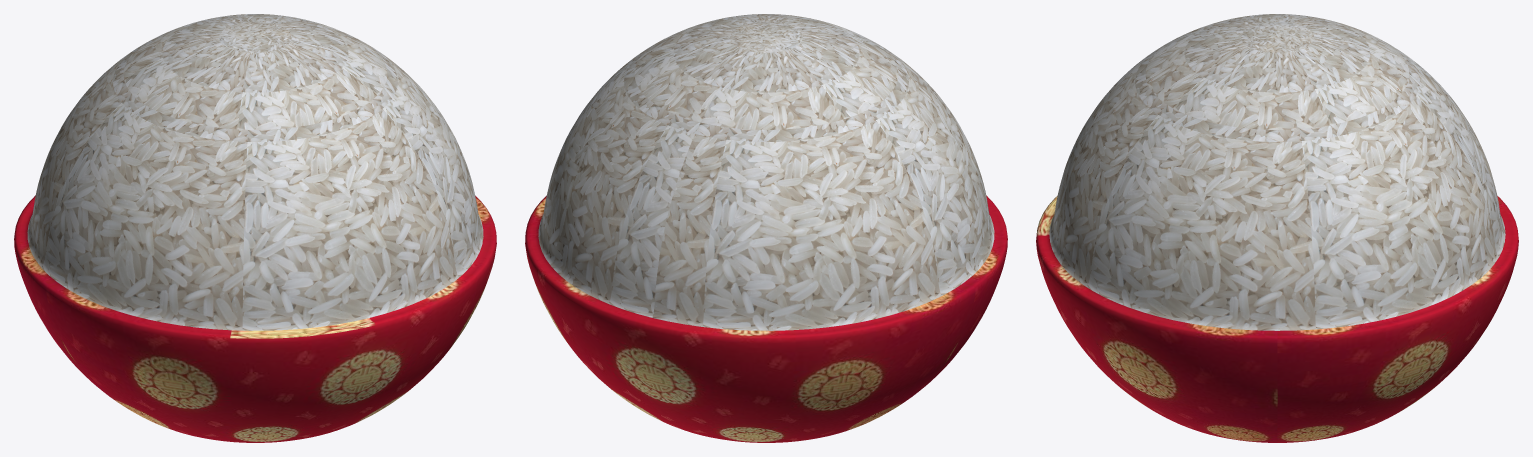
Rendered from Rice Dude.fbx.
The picture shows the model from 3 angles, left to right: view 1: azimuth 30°, elevation 25°; view 2: azimuth 150°, elevation 25°; view 3: azimuth 270°, elevation 25°; orthographic projection.
Visible parts, largest first — view 1: pSphere1; view 2: pSphere1; view 3: pSphere1.
Part boxes in pixels (x1,y1,x2,y2): pSphere1: (14, 14, 496, 442); pSphere1: (525, 14, 1007, 442); pSphere1: (1036, 14, 1518, 442).
Size of the model in its own units: 16.55 by 13.7 by 16.55.
Materials: 3 (2 with a texture image).
